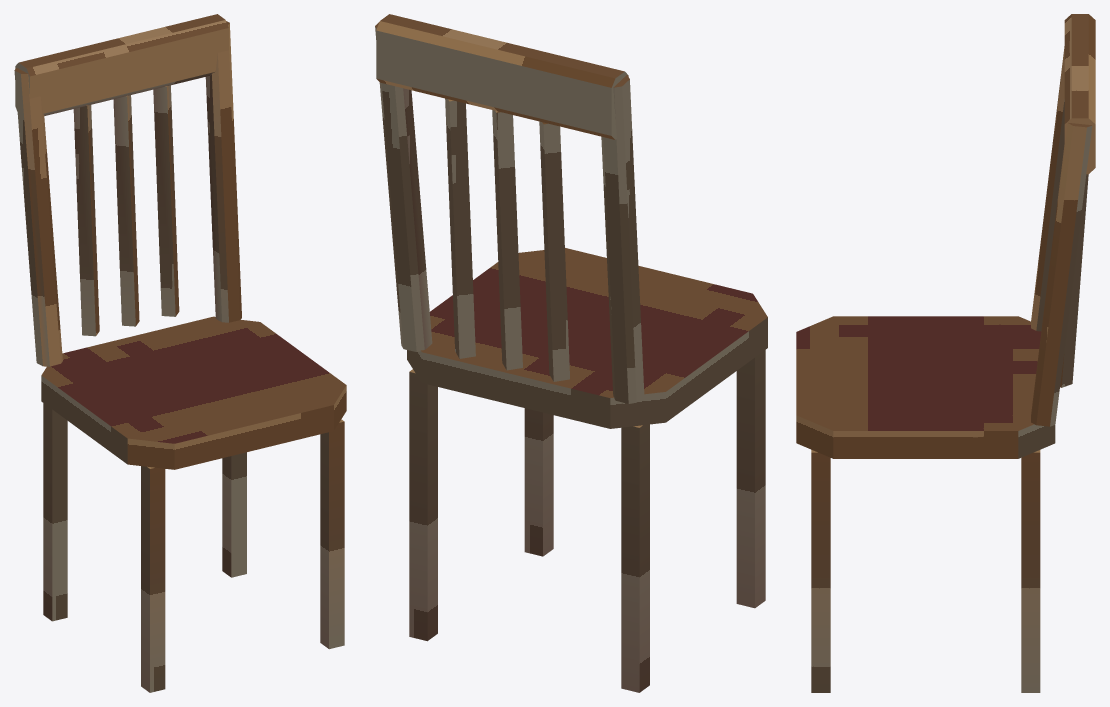
File: wprop.chair.glb
The picture shows the model from 3 angles, left to right: view 1: azimuth 30°, elevation 25°; view 2: azimuth 150°, elevation 25°; view 3: azimuth 270°, elevation 25°; orthographic projection. The views are drawn at different scales.
Parts seen in each view (by area): view 1: kit_seat, kit_legs, kit_back_posts, kit_spindles, kit_back; view 2: kit_seat, kit_legs, kit_back_posts, kit_back, kit_spindles; view 3: kit_seat, kit_back_posts, kit_legs, kit_back, kit_spindles.
Boxes of the visible parts, left/top/right/bottom form: kit_seat: left=41, top=316, right=346, bottom=469; kit_legs: left=43, top=403, right=344, bottom=692; kit_back_posts: left=14, top=21, right=241, bottom=366; kit_spindles: left=73, top=85, right=179, bottom=336; kit_back: left=15, top=14, right=228, bottom=115; kit_seat: left=407, top=248, right=767, bottom=428; kit_legs: left=409, top=350, right=765, bottom=692; kit_back_posts: left=375, top=22, right=644, bottom=403; kit_back: left=376, top=14, right=628, bottom=139; kit_spindles: left=445, top=98, right=569, bottom=381; kit_seat: left=796, top=316, right=1055, bottom=458; kit_back_posts: left=1031, top=46, right=1092, bottom=426; kit_legs: left=811, top=450, right=1040, bottom=692; kit_back: left=1064, top=14, right=1095, bottom=174; kit_spindles: left=1060, top=174, right=1088, bottom=387.
Bounding box in the file's own units: 0.44 × 1.03 × 0.485.
Materials: 2 (2 with a texture image).
